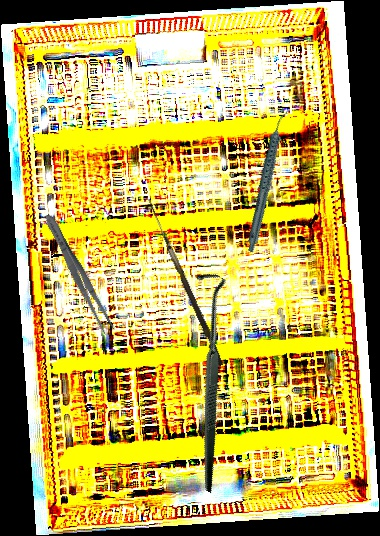Dressing Forceps: (39, 210, 118, 337)
Handpiece: (219, 110, 316, 253)
Hook Surgical: (104, 265, 308, 494), (140, 198, 227, 368)
